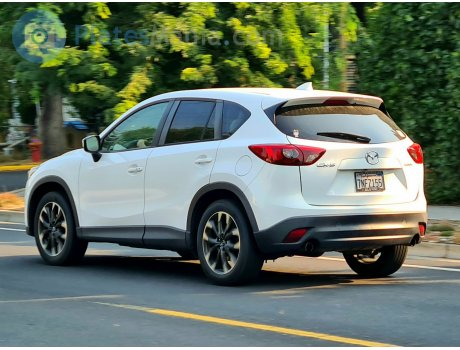license plate: (352, 174, 382, 191)
